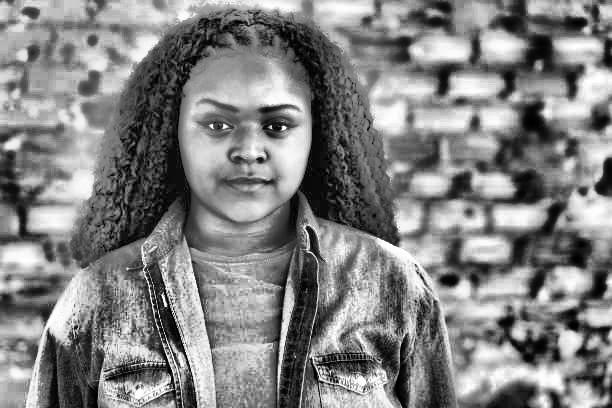sad: (178, 81, 301, 226)
